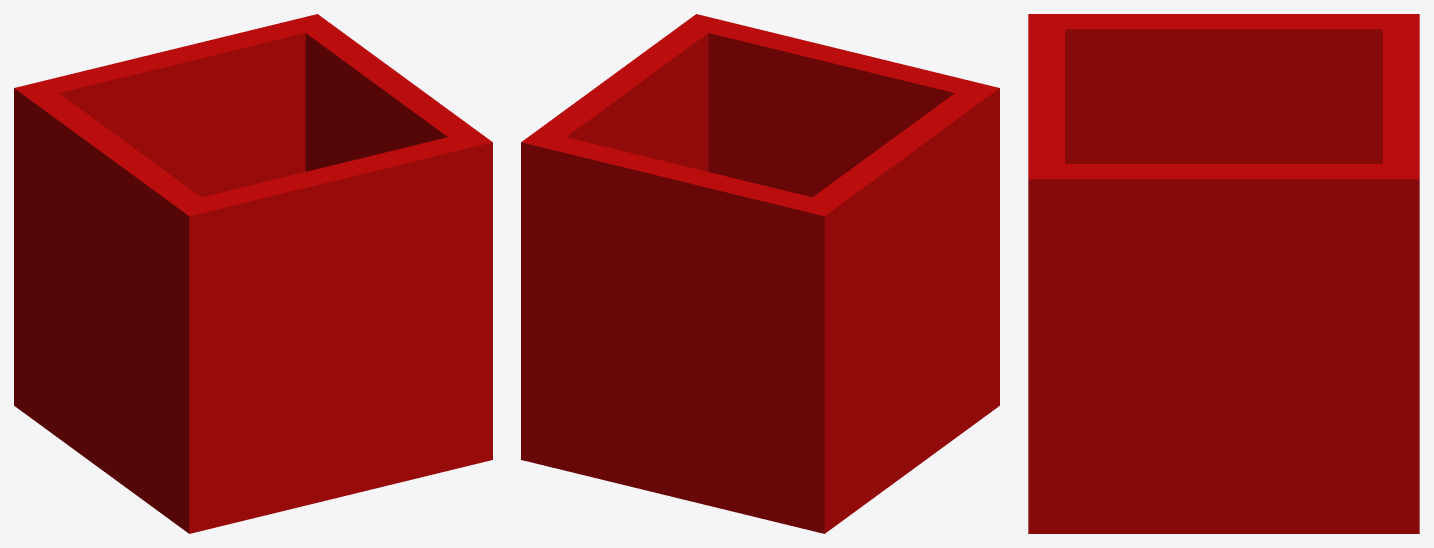
The model's file is Obstacles1.glb.
The picture shows the model from 3 angles, left to right: view 1: azimuth 30°, elevation 25°; view 2: azimuth 150°, elevation 25°; view 3: azimuth 270°, elevation 25°; orthographic projection. The views are drawn at different scales.
Parts seen in each view (by area): view 1: obstacle_1; view 2: obstacle_1; view 3: obstacle_1.
Part boxes in pixels (x1,y1,x2,y2): obstacle_1: [14, 14, 492, 533]; obstacle_1: [521, 14, 999, 533]; obstacle_1: [1028, 14, 1419, 533].
Bounding box in the file's own units: 0.0869 × 0.0869 × 0.0869.
1 material, 1 textured.
